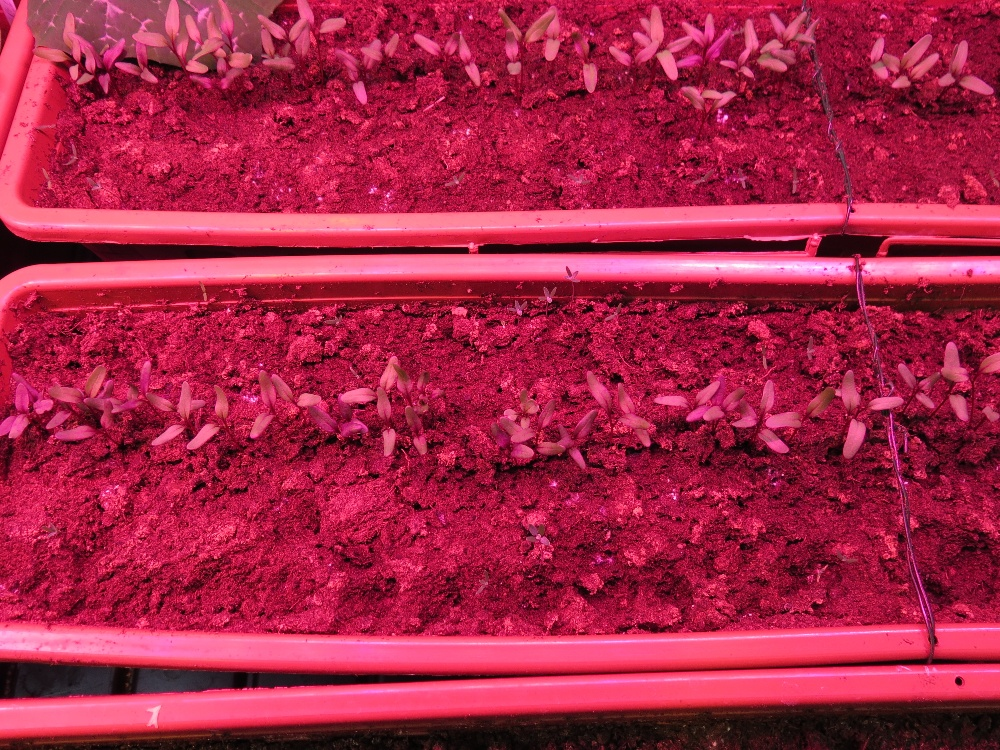crop: (730, 379, 844, 457), (215, 1, 304, 98), (482, 1, 570, 90), (171, 2, 262, 88), (35, 362, 122, 451), (597, 1, 691, 81), (245, 365, 329, 453), (315, 29, 405, 111), (264, 1, 348, 88), (927, 336, 1000, 433), (1, 363, 76, 457), (829, 370, 904, 462), (481, 388, 566, 469), (579, 370, 668, 446), (132, 1, 204, 85), (860, 28, 943, 100), (712, 16, 788, 90), (665, 10, 736, 89), (748, 4, 821, 80), (926, 32, 1000, 103), (143, 375, 207, 457), (656, 373, 753, 427), (184, 381, 247, 461), (401, 27, 487, 85), (34, 14, 102, 86), (53, 398, 140, 453), (105, 358, 163, 437), (355, 385, 410, 468), (364, 349, 430, 418), (72, 32, 136, 101), (537, 407, 605, 470), (888, 357, 947, 429), (548, 31, 612, 97), (304, 396, 377, 453), (666, 79, 740, 135), (399, 364, 450, 425), (109, 38, 160, 91), (401, 403, 434, 460)
weed: (524, 524, 549, 574), (466, 570, 495, 599), (565, 264, 581, 303), (60, 142, 80, 172), (506, 299, 534, 320), (787, 164, 804, 198), (687, 169, 719, 187), (728, 166, 754, 188), (38, 519, 63, 540), (445, 171, 471, 191), (87, 175, 111, 196), (804, 565, 829, 585), (563, 174, 595, 189), (322, 312, 350, 329), (604, 305, 627, 325), (540, 286, 557, 311), (29, 120, 64, 132), (803, 335, 820, 357), (835, 552, 859, 566), (43, 164, 56, 188), (197, 280, 209, 304), (988, 162, 1000, 186), (758, 347, 771, 366)
